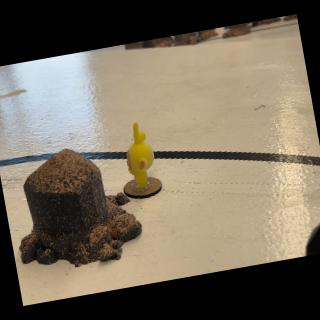teletubby: (127, 123, 154, 188)
